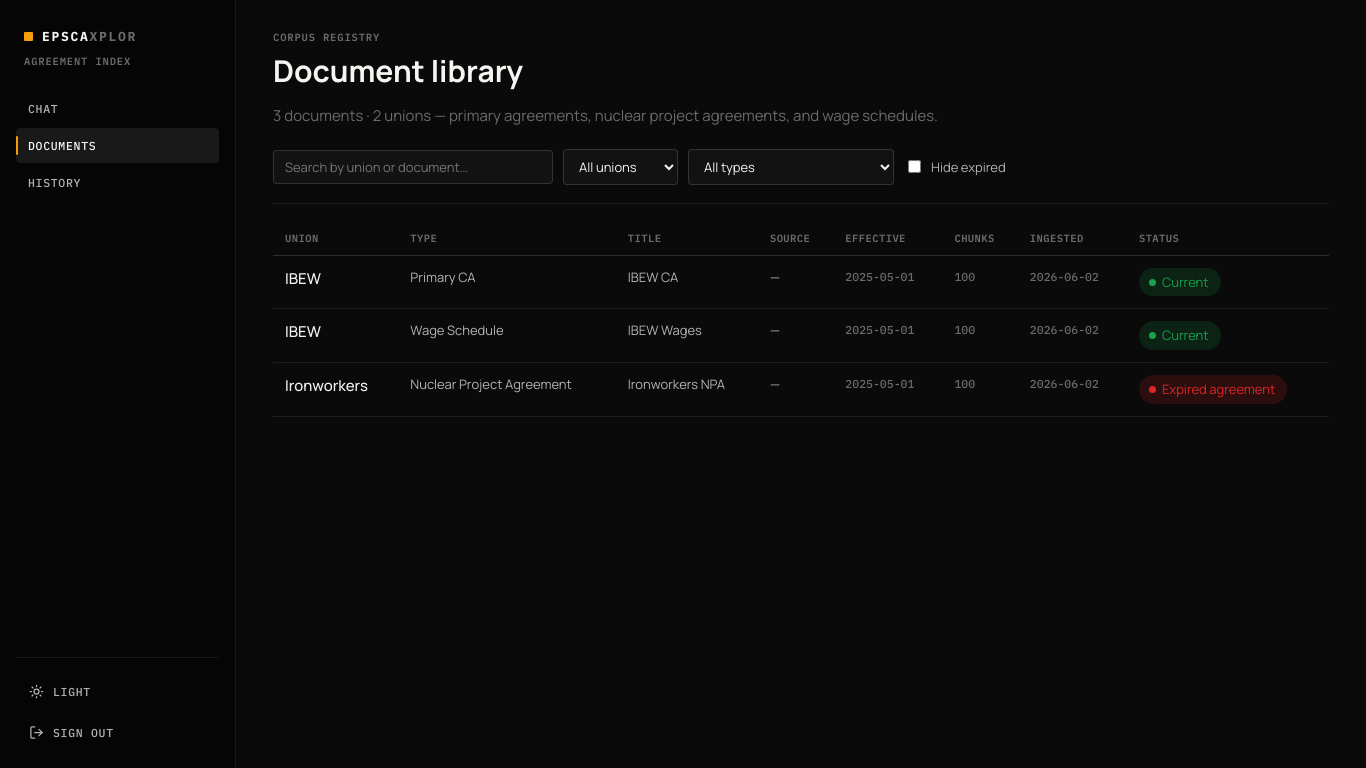
Test: DocumentsPage › filters client-side by search text
The width and height of the screenshot is (1366, 768).
Check: the text "IBEW CA" is shown, box [616, 255, 758, 309]
Type "ironworkers" into the search field with placeholder "Search by union or document…" at {"x": 413, "y": 167}, box [273, 150, 553, 184]
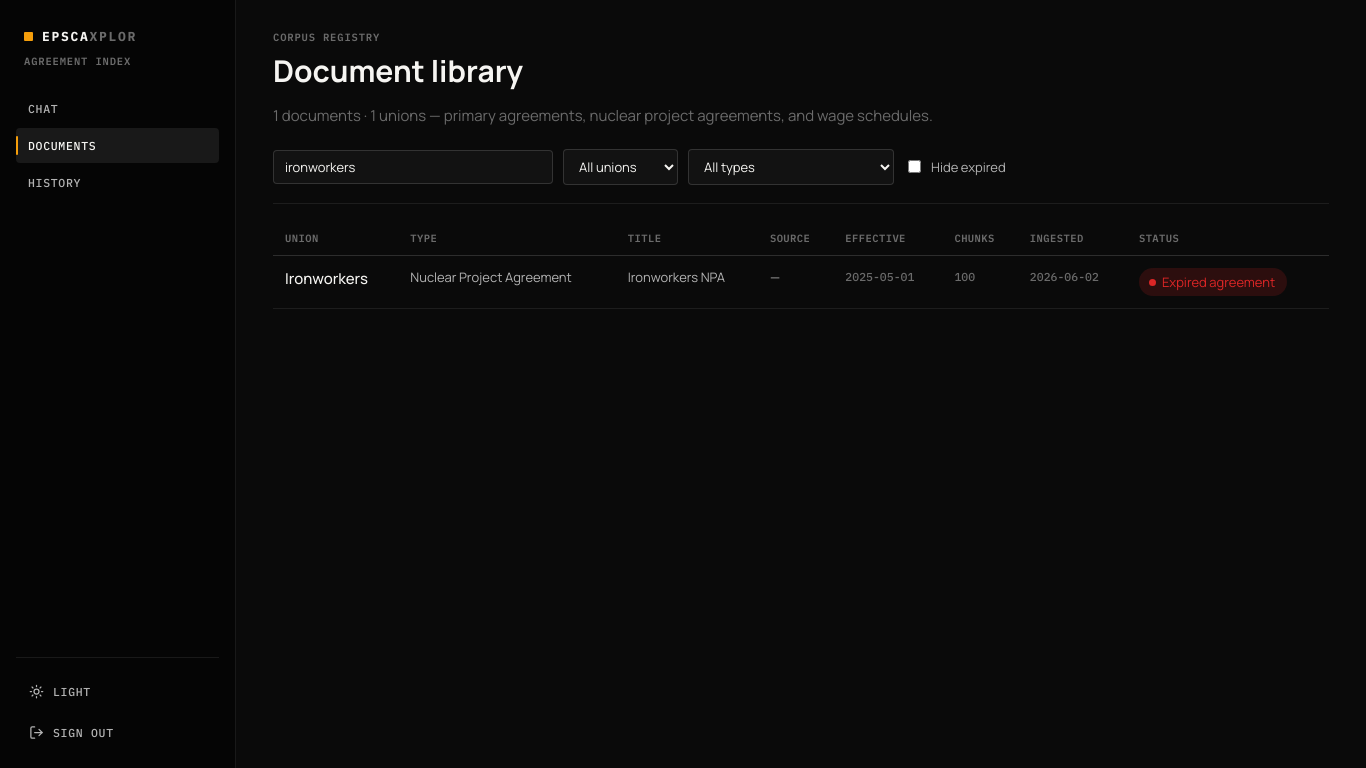
Check: the text "Ironworkers NPA" is shown, box [616, 255, 758, 309]
Check: the text "IBEW CA" is gone
